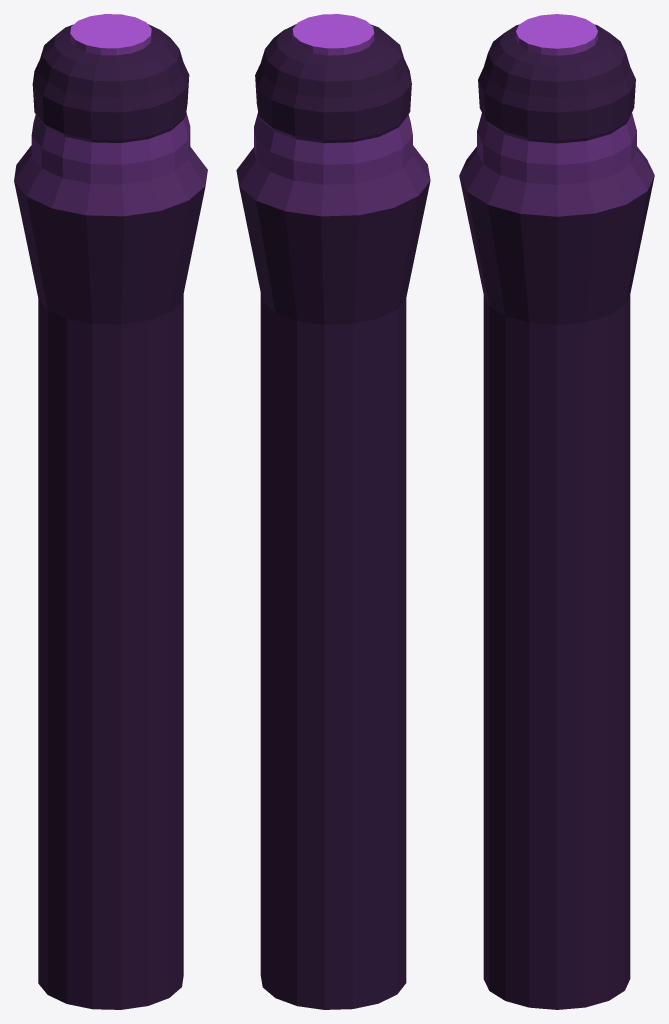
Rendered from centerObject.glb.
3 views of the same model, side by side, from view 1: azimuth 30°, elevation 25°; view 2: azimuth 150°, elevation 25°; view 3: azimuth 270°, elevation 25° (orthographic).
Parts seen in each view (by area): view 1: centerHere; view 2: centerHere; view 3: centerHere.
Part boxes in pixels (x1,y1,x2,y2): centerHere: (14,14,207,1009); centerHere: (236,14,430,1009); centerHere: (459,14,654,1009).
Size of the model in its own units: 0.3826 by 2.04 by 0.3826.
1 material, 1 textured.
